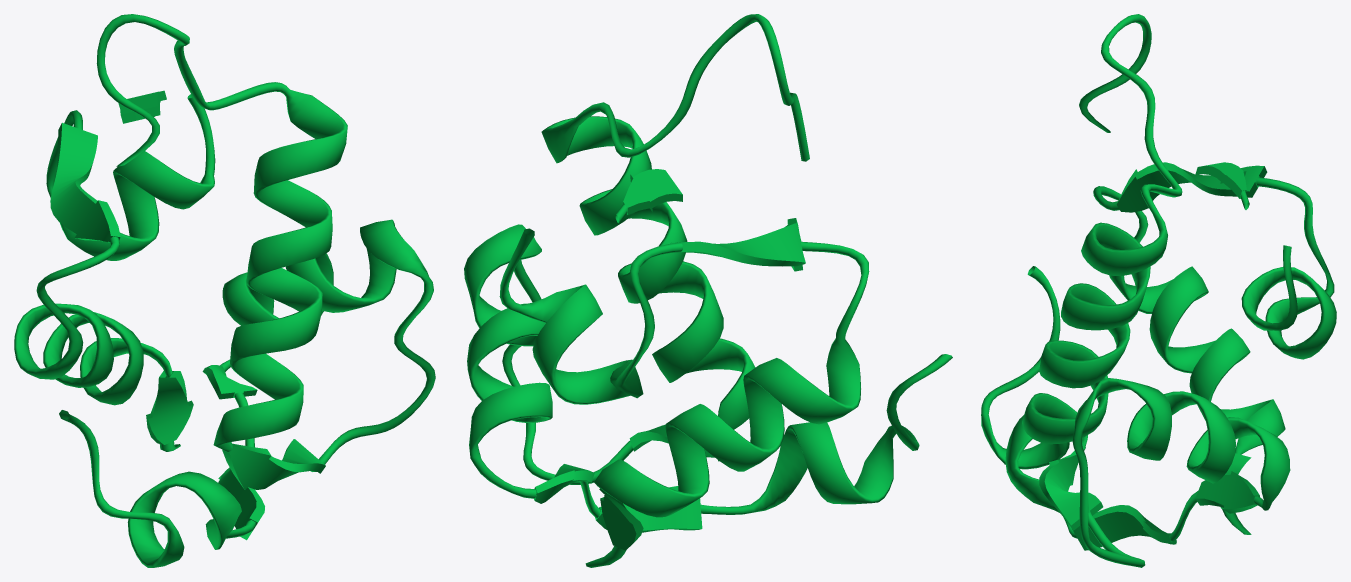
The model's file is 7bmg-target.glb.
The picture shows the model from 3 angles, left to right: view 1: azimuth 30°, elevation 25°; view 2: azimuth 150°, elevation 25°; view 3: azimuth 270°, elevation 25°; orthographic projection. The views are drawn at different scales.
Visible parts, largest first — view 1: Test Export; view 2: Test Export; view 3: Test Export.
Part boxes in pixels (<box>): Test Export: <box>14,14,435,567</box>; Test Export: <box>464,14,952,567</box>; Test Export: <box>981,14,1336,567</box>.
Size of the model in its own units: 28.81 by 36.15 by 23.55.
